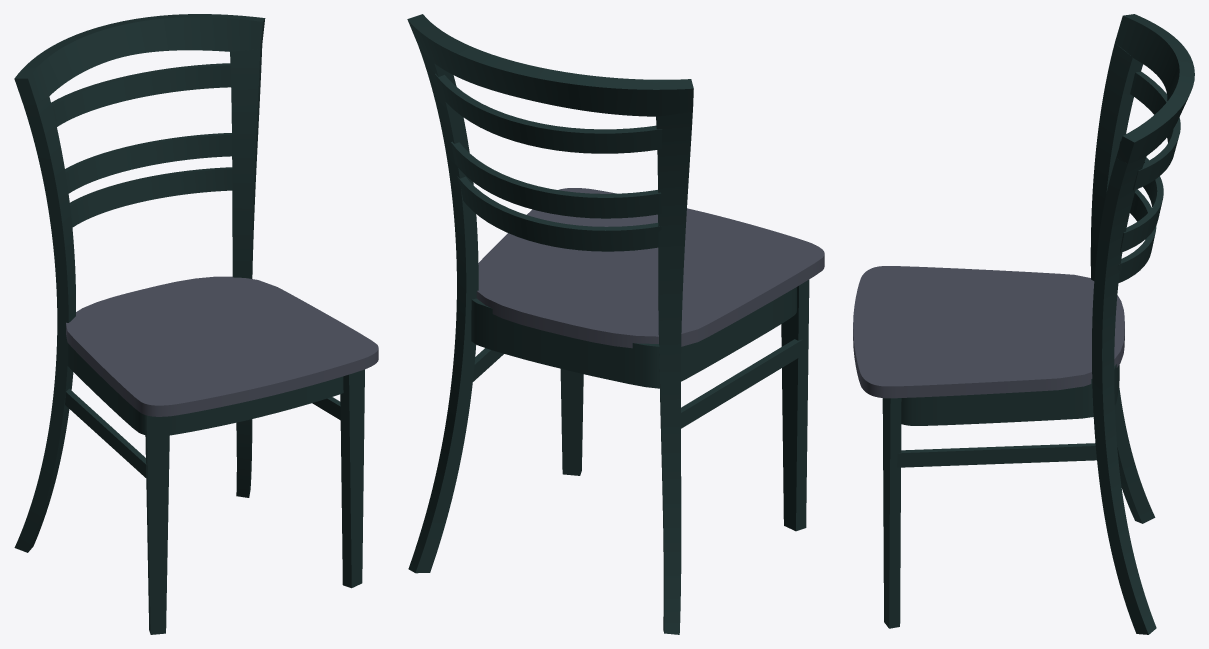
Rendered from kicken_chair.dae.
The picture shows the model from 3 angles, left to right: view 1: azimuth 30°, elevation 25°; view 2: azimuth 150°, elevation 25°; view 3: azimuth 270°, elevation 25°; orthographic projection. The views are drawn at different scales.
Parts seen in each view (by area): view 1: Box02 (×11); view 2: Box02 (×11); view 3: Box02 (×10).
Boxes of the visible parts, bbox=[...] form: Box02 (×11): bbox=[14, 14, 378, 634]; Box02 (×11): bbox=[407, 14, 824, 634]; Box02 (×10): bbox=[853, 14, 1194, 634].
Size of the model in its own units: 1186 by 1338 by 2187.
